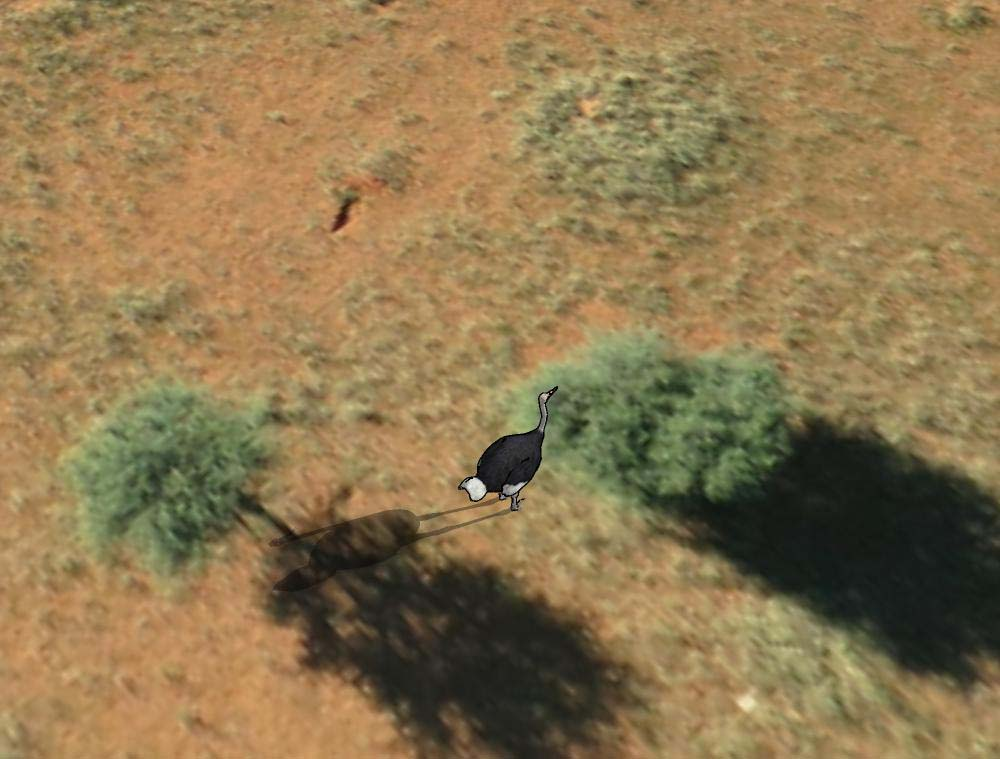ostrich: (455, 386, 566, 515)
